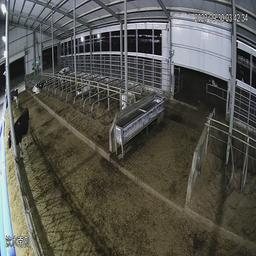cow: (4, 108, 38, 168), (1, 84, 22, 113), (31, 73, 47, 97), (58, 63, 73, 88), (118, 88, 134, 109)
